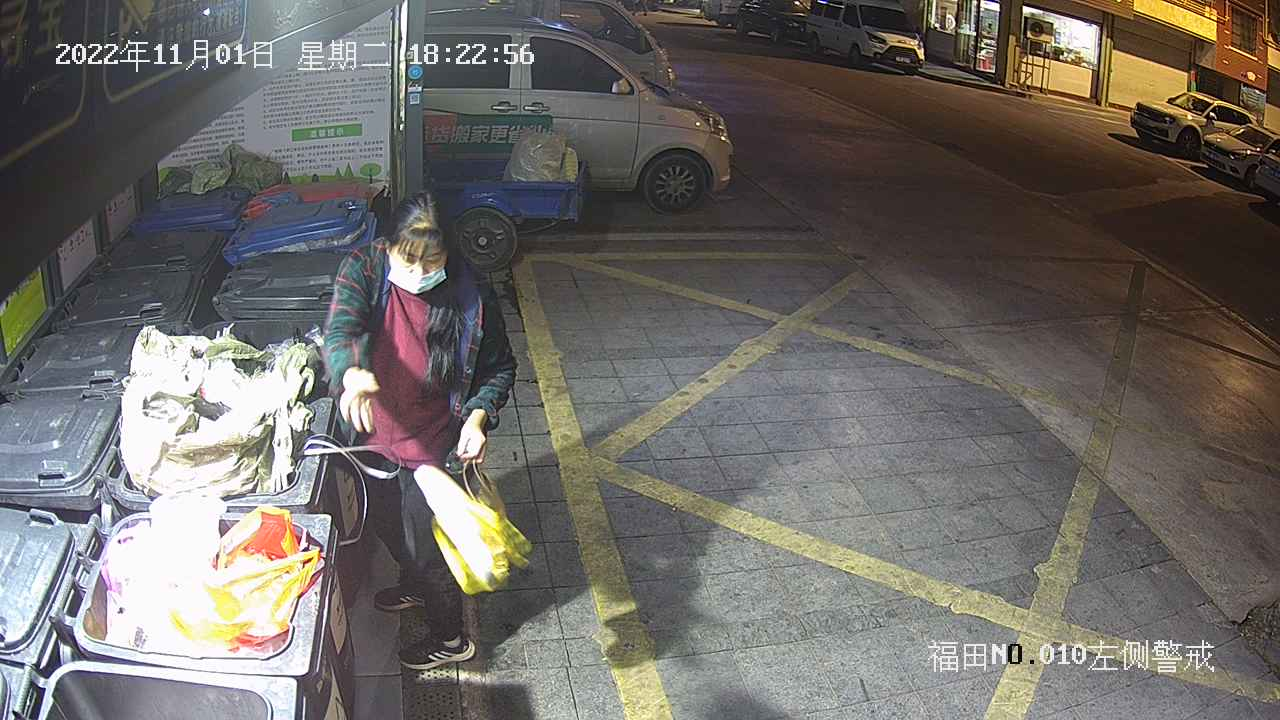garbage-bag: (413, 457, 532, 596)
person: (321, 190, 520, 673)
